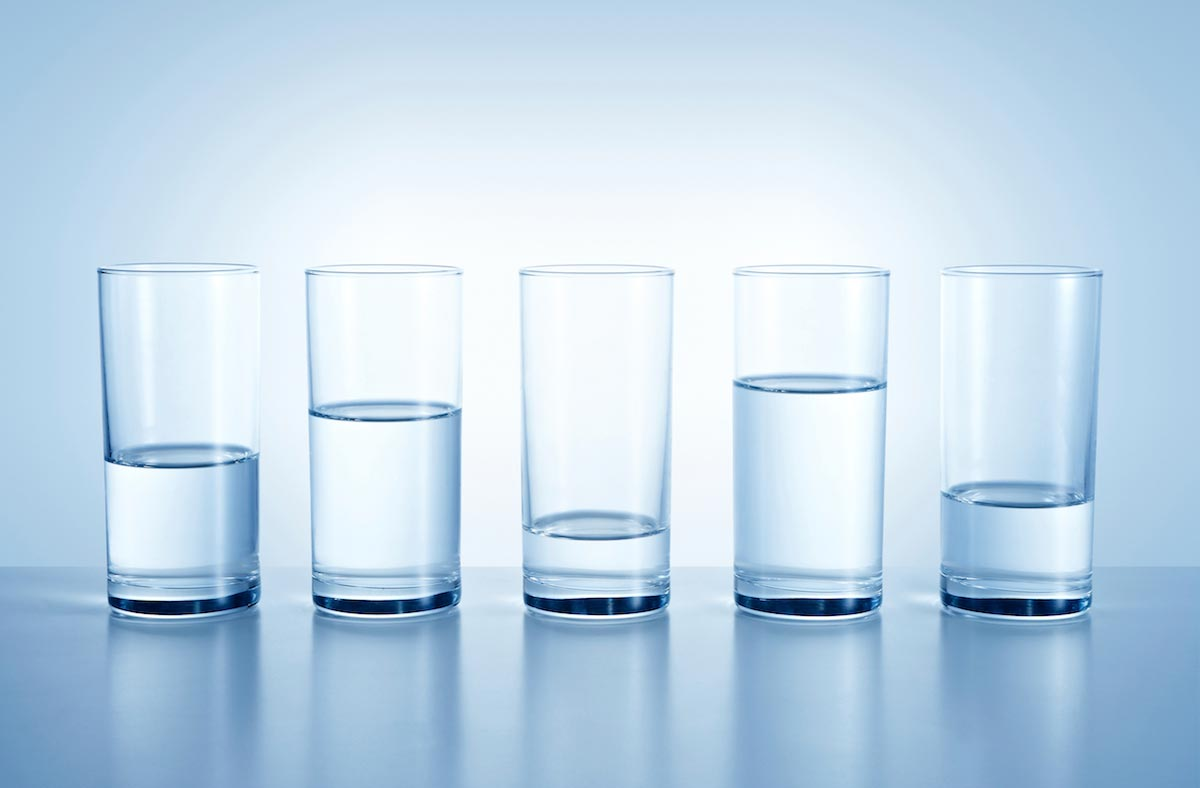glass of water: (86, 236, 274, 633), (722, 251, 910, 634), (510, 251, 693, 643), (934, 248, 1110, 639), (303, 246, 474, 643)
